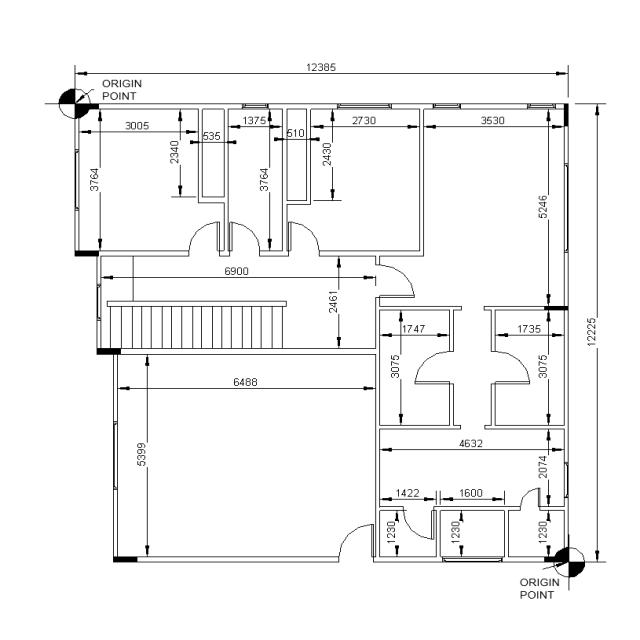Column: (113, 556, 138, 563), (97, 348, 121, 355), (74, 104, 99, 110), (544, 556, 569, 562), (75, 250, 99, 256), (544, 306, 569, 310), (564, 104, 568, 126)
Door: (338, 524, 374, 562), (375, 264, 415, 298), (188, 221, 225, 257), (414, 351, 454, 384), (491, 351, 530, 384), (286, 222, 320, 256), (402, 506, 435, 540), (228, 222, 260, 256), (520, 487, 540, 511)
Staircase: (101, 307, 375, 348)
Window: (74, 149, 80, 211), (442, 556, 503, 562), (564, 163, 568, 253), (113, 421, 118, 490), (337, 104, 392, 110), (96, 284, 102, 321), (527, 104, 556, 110), (433, 104, 461, 110), (242, 104, 268, 110), (564, 462, 568, 498)
